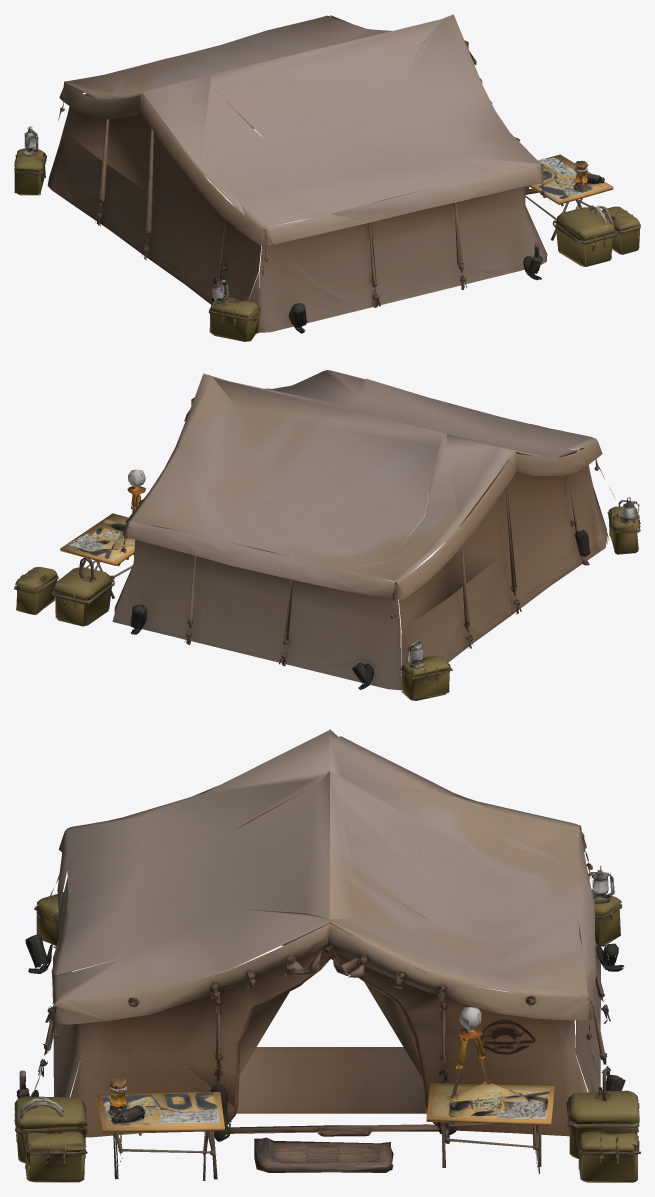
Rendered from ch1_expedition_command_tent_LOD1.glb.
3 renders of one model, top to bottom at view 1: azimuth 30°, elevation 25°; view 2: azimuth 150°, elevation 25°; view 3: azimuth 270°, elevation 25°, orthographic. The views are drawn at different scales.
Parts seen in each view (by area): view 1: tripo_node_c0922387-0ff8-4f86-8ded-e790a2d85951; view 2: tripo_node_c0922387-0ff8-4f86-8ded-e790a2d85951; view 3: tripo_node_c0922387-0ff8-4f86-8ded-e790a2d85951.
Boxes of the visible parts, <box> form: tripo_node_c0922387-0ff8-4f86-8ded-e790a2d85951: <box>14,14,640,341</box>; tripo_node_c0922387-0ff8-4f86-8ded-e790a2d85951: <box>14,370,640,700</box>; tripo_node_c0922387-0ff8-4f86-8ded-e790a2d85951: <box>14,729,640,1182</box>.
Size of the model in its own units: 0.9922 by 0.3895 by 1.
Materials: 1 (1 with a texture image).
